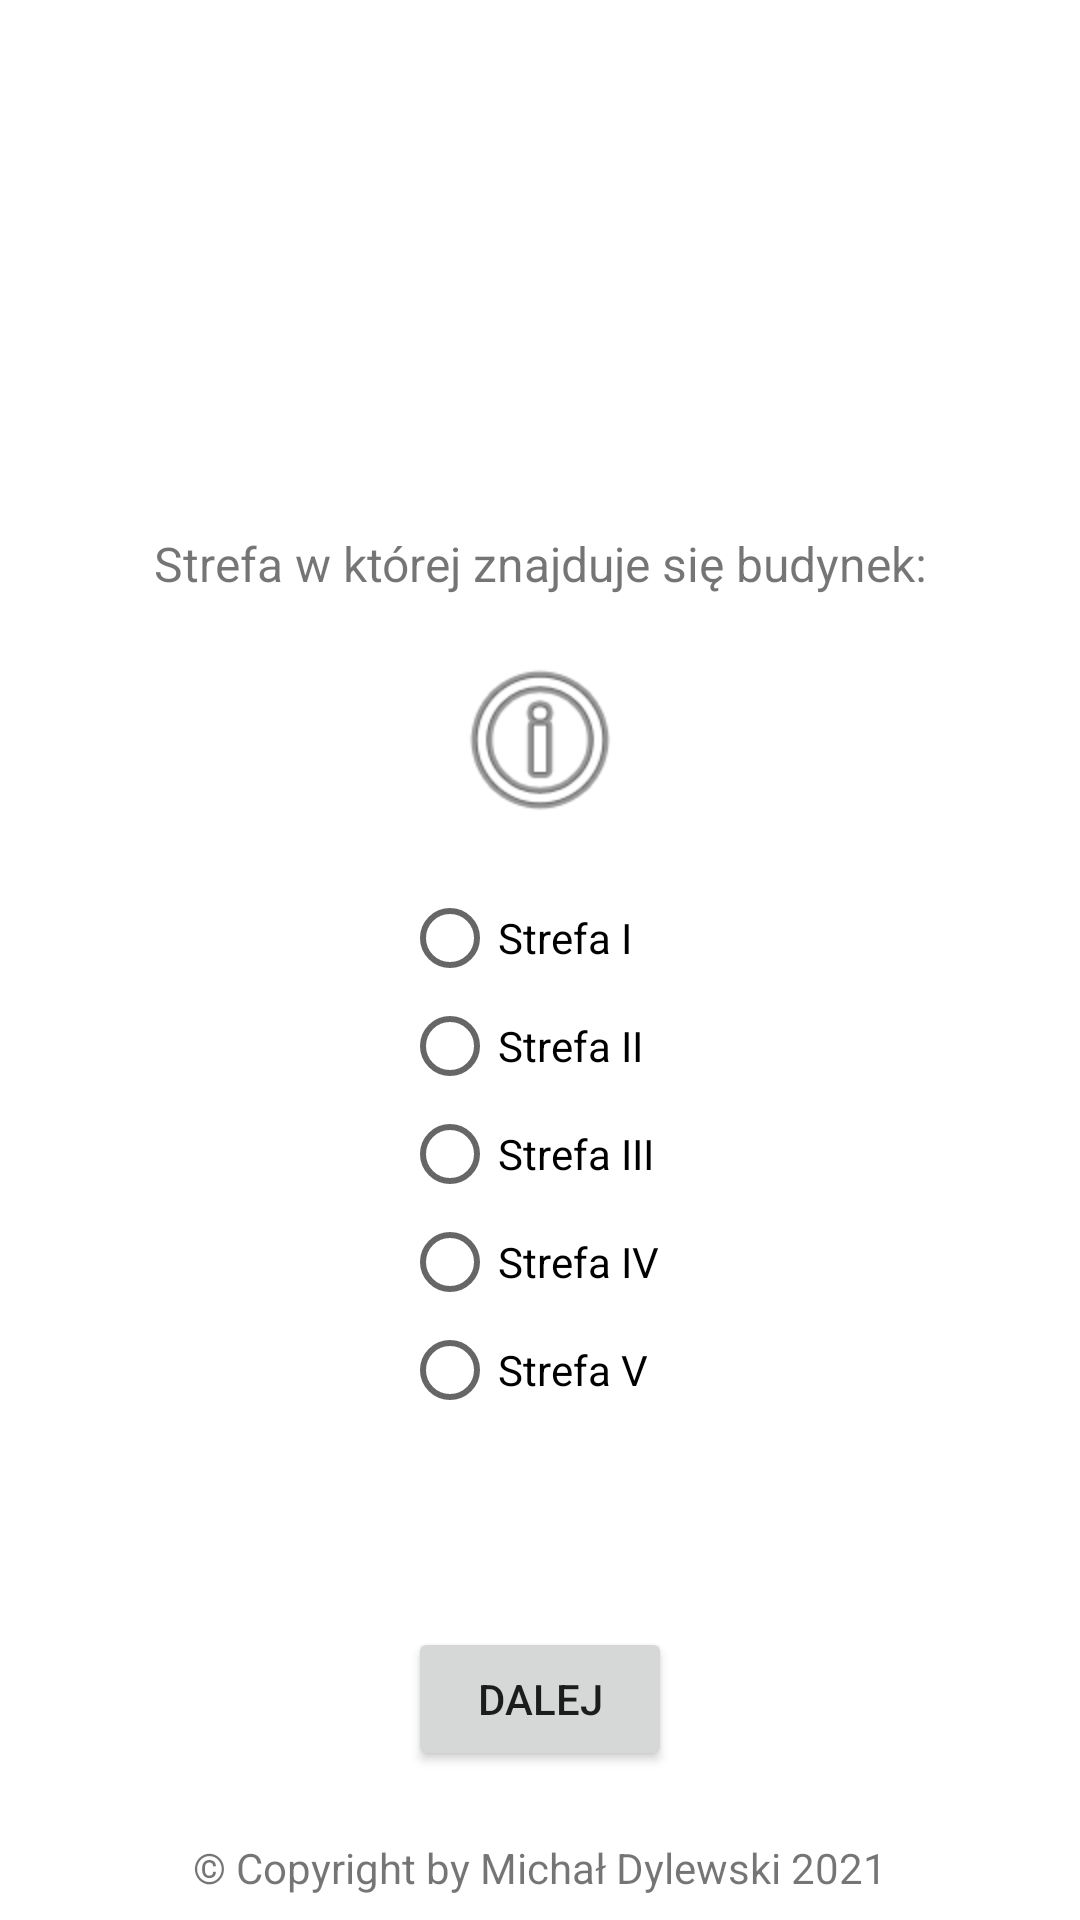

Screen size 1080w x 1920h. Icon name, then its center in pixels as point (x, y):
info details: point (540, 740)
